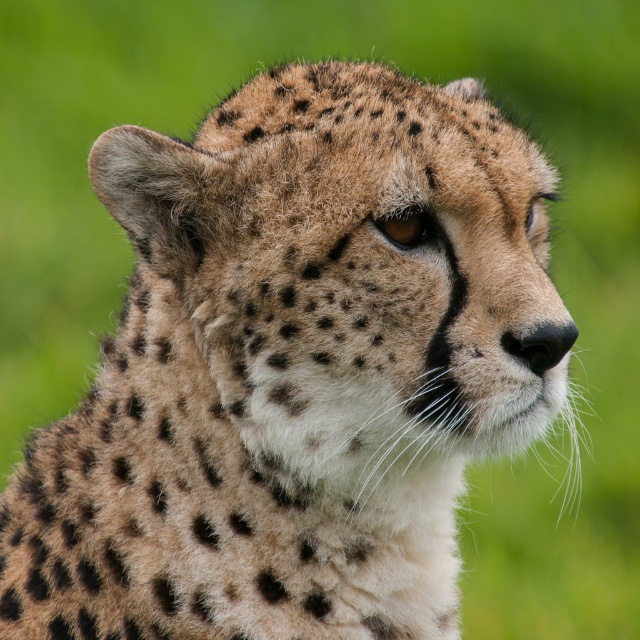Cheetah: (0, 50, 597, 640)
